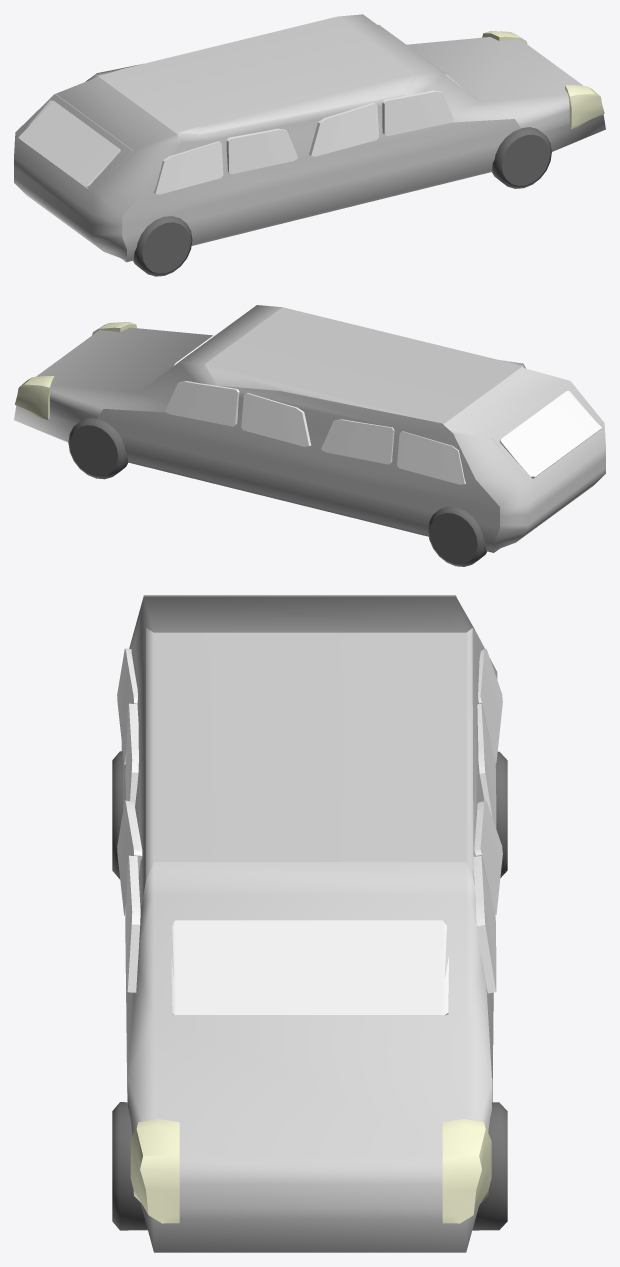
The model's file is CarroBlanco.fbx.
The picture shows the model from 3 angles, top to bottom: view 1: azimuth 30°, elevation 25°; view 2: azimuth 150°, elevation 25°; view 3: azimuth 270°, elevation 25°; orthographic projection. The views are drawn at different scales.
Parts seen in each view (by area): view 1: pCube1, pCube10, pCylinder1, pCylinder2, pCube13, pCube8, pasted__pCube8, pasted__pCube13, pCube9; view 2: pCube1, pCube10, pCylinder3, pCylinder4, pasted__pCube12, pCube14, pasted__pasted__pCube12, pasted__pCube14, pCube9; view 3: pCube1, pCube6, pCube9, pCylinder1, pCylinder3, pasted__pCube12, pCube14, pCube8, pasted__pCube14, pCube13, pasted__pasted__pCube12, pasted__pCube13 (+3 smaller).
Part boxes in pixels (x1,y1,x2,y2): pCube1: [14, 14, 605, 262]; pCube10: [18, 100, 120, 188]; pCylinder1: [492, 127, 551, 188]; pCylinder2: [133, 216, 192, 276]; pCube13: [309, 102, 378, 156]; pCube8: [382, 90, 453, 136]; pasted__pCube8: [226, 128, 297, 174]; pasted__pCube13: [154, 141, 223, 194]; pCube9: [482, 31, 604, 128]; pCube1: [14, 305, 605, 552]; pCube10: [499, 391, 601, 478]; pCylinder3: [68, 418, 127, 479]; pCylinder4: [428, 506, 486, 566]; pasted__pCube12: [165, 381, 239, 426]; pCube14: [241, 393, 311, 446]; pasted__pasted__pCube12: [321, 419, 394, 464]; pasted__pCube14: [397, 431, 465, 484]; pCube9: [15, 322, 136, 419]; pCube1: [121, 595, 497, 1252]; pCube6: [171, 920, 448, 1015]; pCube9: [130, 1119, 491, 1223]; pCylinder1: [112, 1102, 147, 1230]; pCylinder3: [472, 1102, 507, 1230]; pasted__pCube12: [473, 856, 496, 993]; pCube14: [474, 800, 502, 915]; pCube8: [125, 855, 140, 992]; pasted__pCube14: [478, 648, 502, 763]; pCube13: [117, 800, 142, 916]; pasted__pasted__pCube12: [477, 704, 496, 828]; pasted__pCube13: [117, 648, 137, 764].
Bounding box in the file's own units: 33.37 × 8.24 × 11.09.
